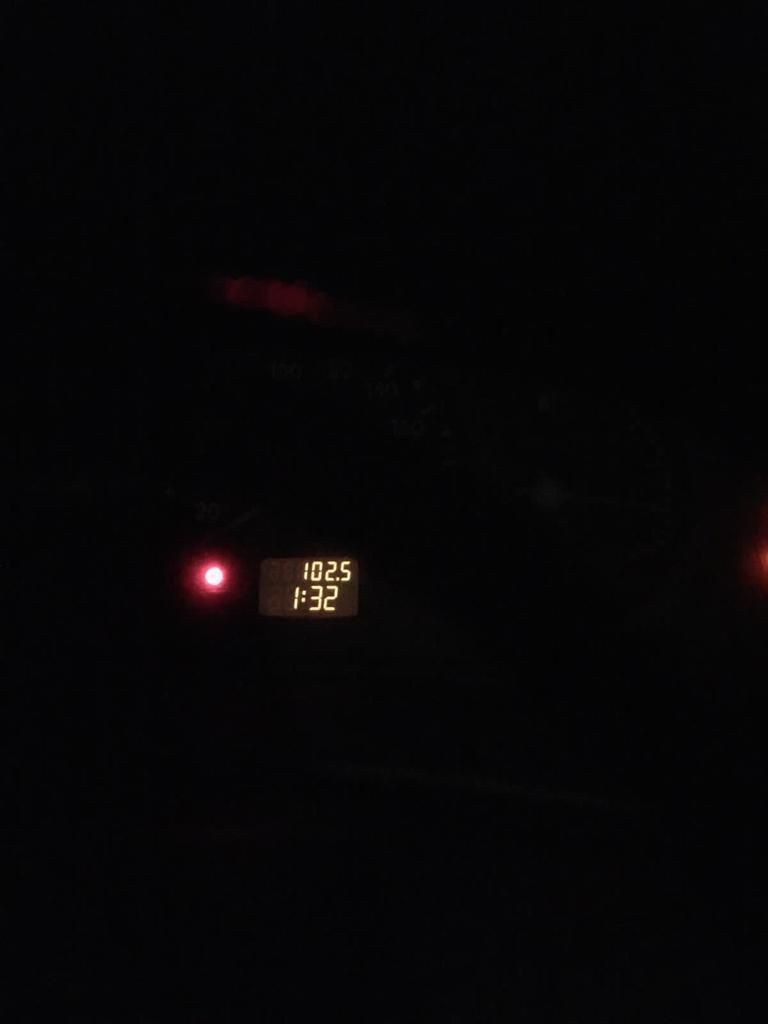,: (335, 575, 340, 582)
0: (310, 559, 322, 580)
1: (291, 585, 299, 612), (302, 560, 308, 580)
2: (324, 584, 337, 612), (325, 560, 336, 582)
3: (310, 585, 322, 611)
5: (340, 560, 351, 580)
X: (300, 588, 306, 604)
odometer: (257, 554, 360, 619)
